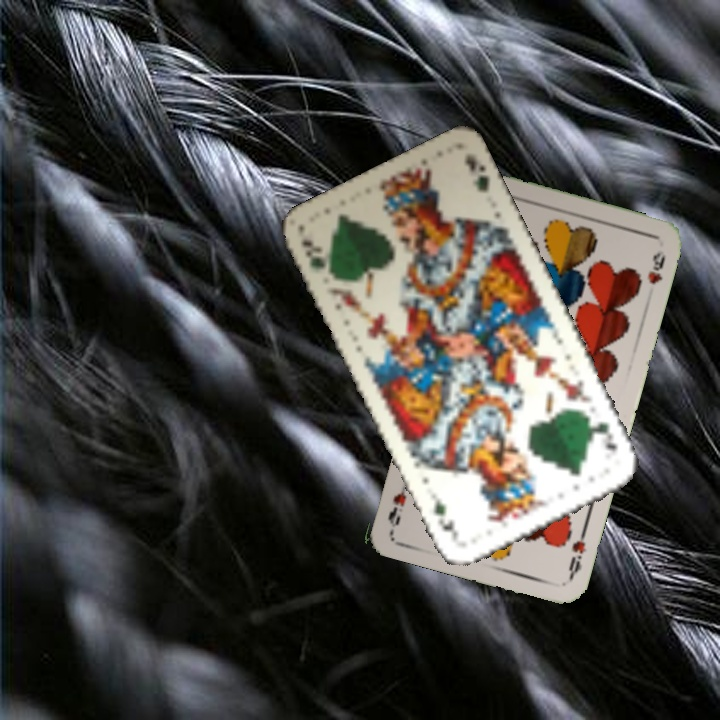GK: (583, 412, 621, 454), (297, 234, 329, 272)
H9: (564, 523, 590, 582)
